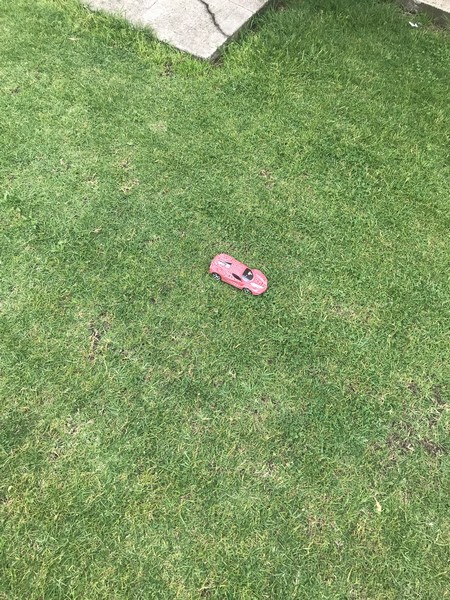RC: (208, 252, 269, 296)
